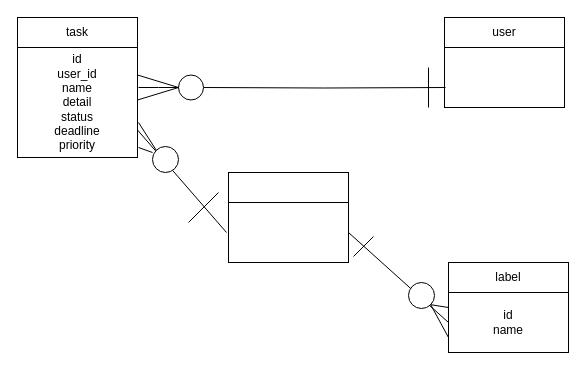
This 586x370 diagram has some shape labels left out. The shapes that lost their labels are listed below. From the top down, each one's box as (x1, y1, x2, y2) in pixels, then its label:
(444, 46, 564, 108): name email password
(228, 172, 348, 202): labeling
(228, 202, 348, 262): task_id label_id
